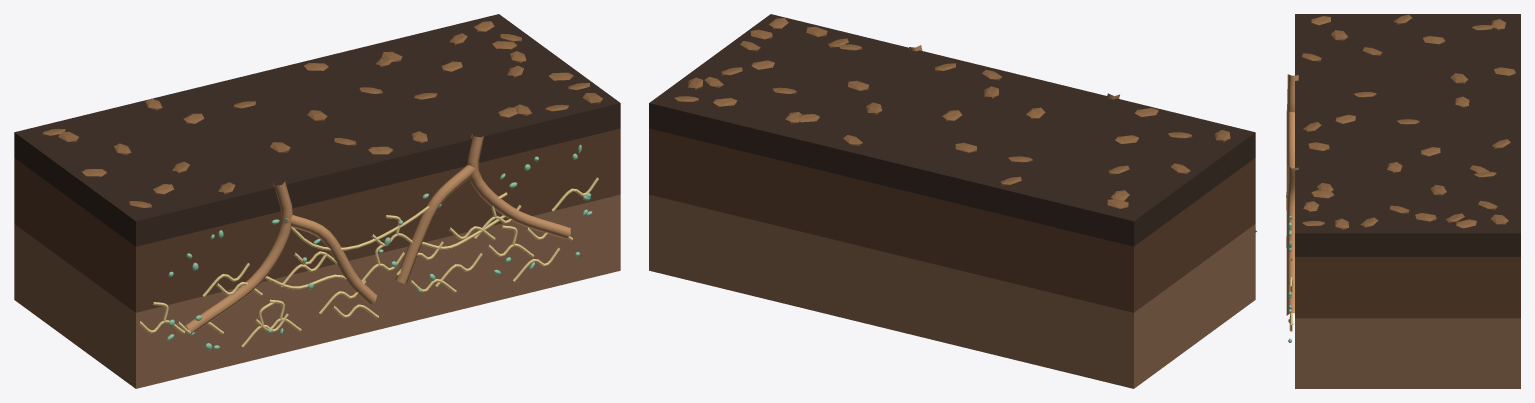
Rendered from forest-soil.glb.
3 views of the same model, side by side, from view 1: azimuth 30°, elevation 25°; view 2: azimuth 150°, elevation 25°; view 3: azimuth 270°, elevation 25° (orthographic). The views are drawn at different scales.
Parts seen in each view (by area): view 1: Leaf litter and humus, Mineral subsoil, Organic topsoil, Part (×5), Surface leaf litter, Enlarged soil microbe symbols; view 2: Leaf litter and humus, Mineral subsoil, Organic topsoil, Surface leaf litter; view 3: Leaf litter and humus, Mineral subsoil, Organic topsoil, Surface leaf litter, Part (×3).
Part boxes in pixels (x1=…): Leaf litter and humus: x1=14, y1=14, x2=620, y2=246; Mineral subsoil: x1=14, y1=194, x2=620, y2=388; Organic topsoil: x1=14, y1=128, x2=620, y2=312; Part (×5): x1=185, y1=134, x2=570, y2=333; Surface leaf litter: x1=42, y1=21, x2=602, y2=207; Enlarged soil microbe symbols: x1=166, y1=144, x2=592, y2=350; Leaf litter and humus: x1=649, y1=14, x2=1255, y2=246; Mineral subsoil: x1=649, y1=194, x2=1255, y2=388; Organic topsoil: x1=649, y1=128, x2=1255, y2=312; Surface leaf litter: x1=674, y1=18, x2=1230, y2=208; Leaf litter and humus: x1=1295, y1=14, x2=1520, y2=256; Mineral subsoil: x1=1295, y1=318, x2=1520, y2=388; Organic topsoil: x1=1295, y1=257, x2=1520, y2=318; Surface leaf litter: x1=1301, y1=14, x2=1515, y2=229; Part (×3): x1=1286, y1=74, x2=1298, y2=315.
Bounding box in the file's own units: 4.6 × 1.57 × 2.08.
